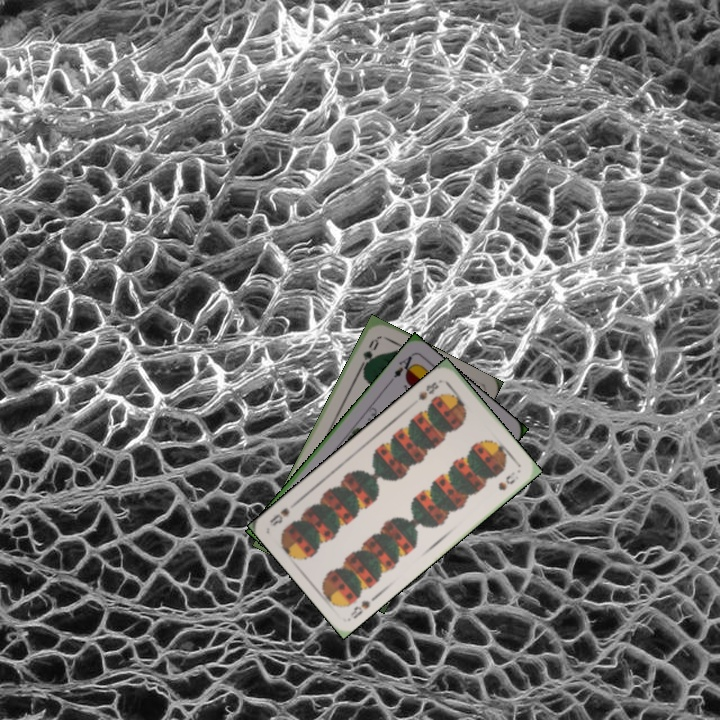EA: (386, 351, 418, 385)
GO: (356, 334, 382, 373)
S8: (414, 378, 442, 403), (346, 596, 373, 621)
